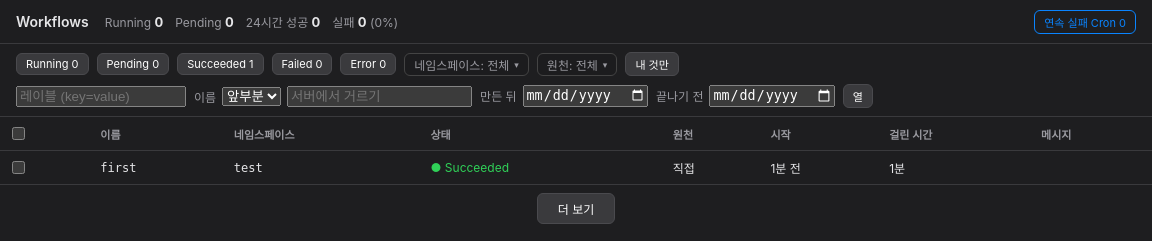
Test: [더 보기]는 continue 토큰으로 다음 페이지를 이어 붙인다
This screenshot has width=1152, height=241.
Expected: the text "first" is shown, 92,150 -> 226,184
Click the button "더 보기": (576, 208) 537,193 -> 615,224
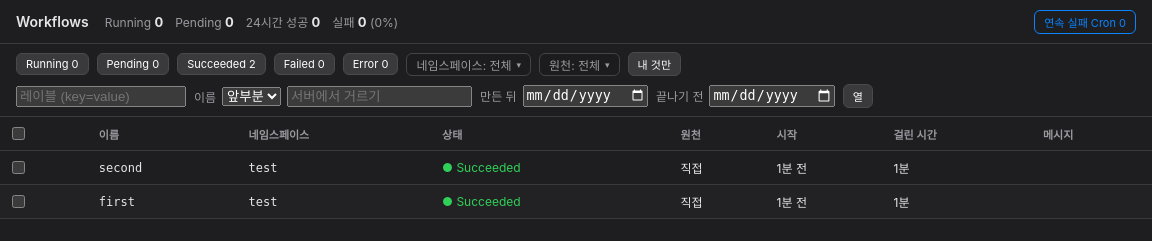
Expected: the text "first" is shown, 91,184 -> 240,218
Expected: the text "second" is shown, 91,150 -> 240,184
Expected: the button "더 보기" is gone
